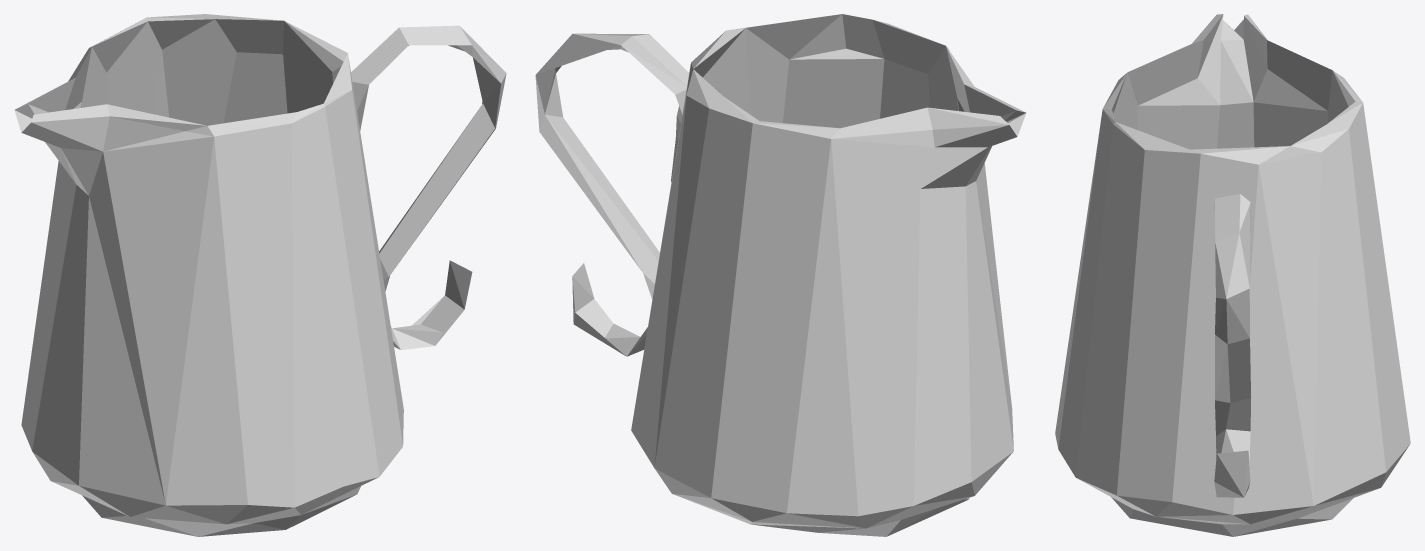
File: MilkCanWhite.fbx
The picture shows the model from 3 angles, left to right: view 1: azimuth 30°, elevation 25°; view 2: azimuth 150°, elevation 25°; view 3: azimuth 270°, elevation 25°; orthographic projection. The views are drawn at different scales.
Visible parts, largest first — view 1: MilkCanLowPolyWhite; view 2: MilkCanLowPolyWhite; view 3: MilkCanLowPolyWhite.
Boxes of the visible parts, bbox=[...] form: MilkCanLowPolyWhite: bbox=[14, 14, 506, 536]; MilkCanLowPolyWhite: bbox=[535, 14, 1026, 536]; MilkCanLowPolyWhite: bbox=[1055, 14, 1410, 536].
Bounding box in the file's own units: 15.88 × 13.05 × 10.95.
